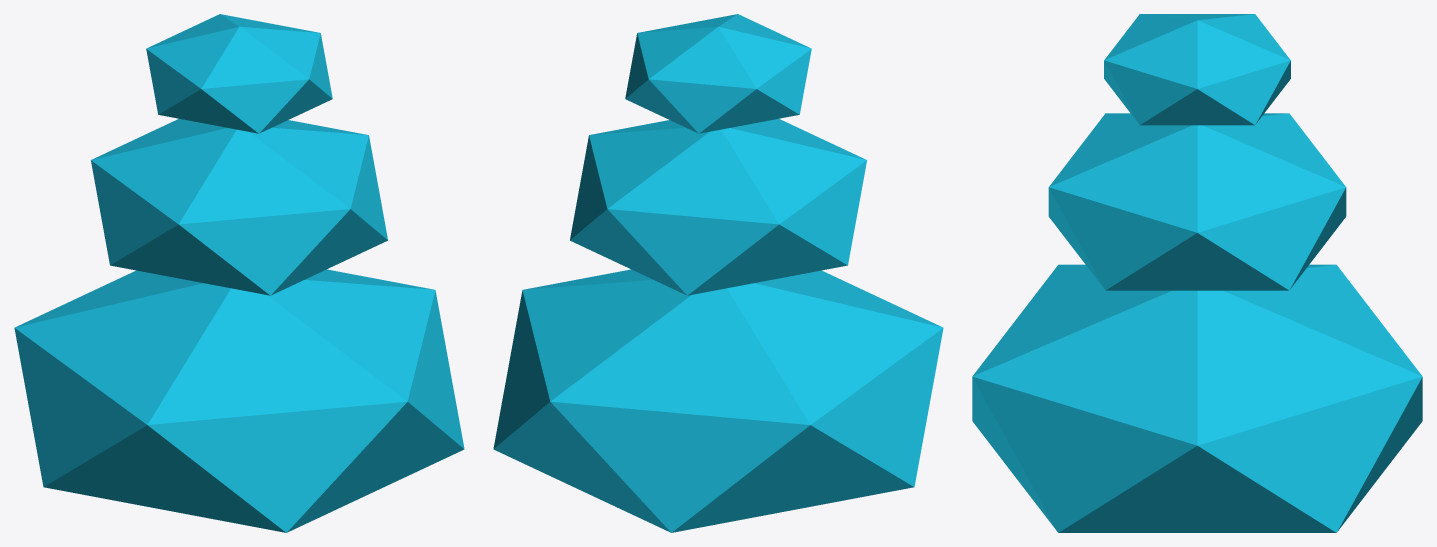
The model's file is mixo.fbx.
The picture shows the model from 3 angles, left to right: view 1: azimuth 30°, elevation 25°; view 2: azimuth 150°, elevation 25°; view 3: azimuth 270°, elevation 25°; orthographic projection. The views are drawn at different scales.
Parts seen in each view (by area): view 1: Icosphere, Icosphere.001, Icosphere.002; view 2: Icosphere, Icosphere.001, Icosphere.002; view 3: Icosphere, Icosphere.001, Icosphere.002.
Boxes of the visible parts, x1,y1,x2,y2 form: Icosphere: [14, 269, 464, 532]; Icosphere.001: [91, 118, 387, 295]; Icosphere.002: [146, 14, 332, 133]; Icosphere: [493, 269, 943, 532]; Icosphere.001: [570, 118, 866, 295]; Icosphere.002: [625, 14, 811, 133]; Icosphere: [972, 264, 1422, 532]; Icosphere.001: [1048, 113, 1346, 290]; Icosphere.002: [1104, 14, 1290, 125].
Size of the model in its own units: 479 by 555 by 455.
